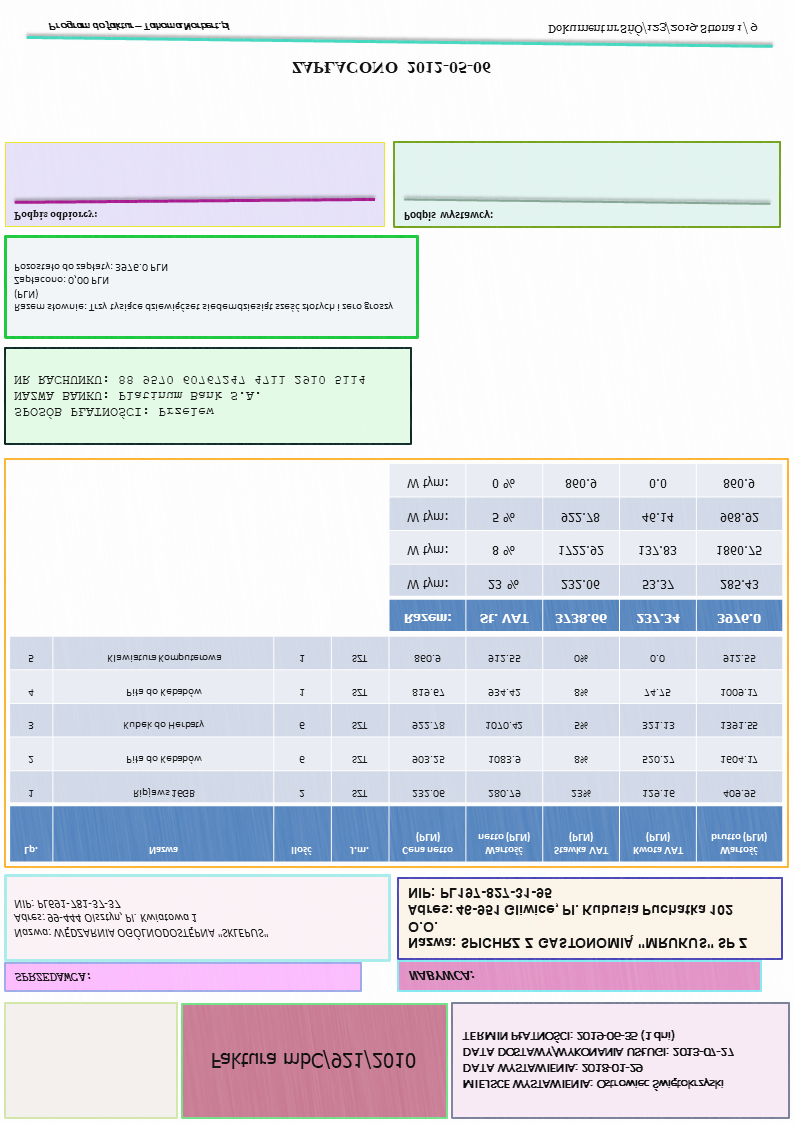Table: (7, 633, 785, 864), (388, 463, 786, 632)
TextBox: (402, 881, 752, 955), (10, 258, 397, 316), (11, 368, 368, 424), (457, 1025, 738, 1094), (10, 894, 274, 946), (200, 1044, 419, 1080), (543, 16, 761, 39), (288, 55, 497, 78), (44, 18, 236, 39), (10, 205, 100, 227), (399, 205, 498, 225), (404, 964, 476, 989), (8, 968, 91, 988)
